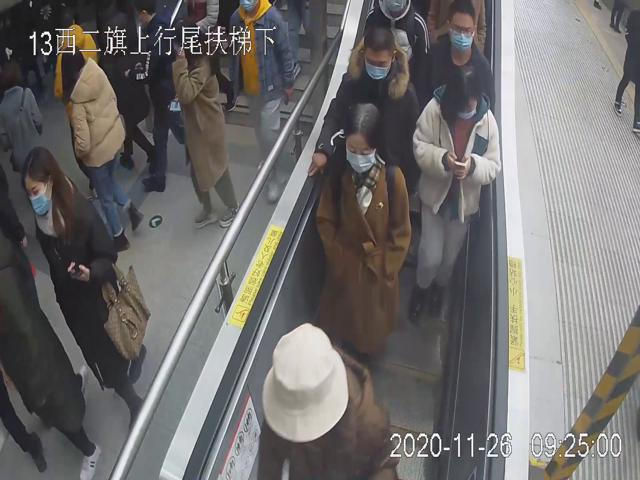person: (21, 144, 145, 432), (313, 98, 410, 362), (408, 62, 501, 324), (305, 13, 418, 175), (419, 0, 496, 106)
